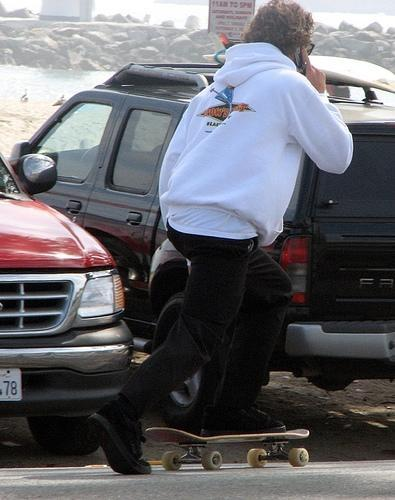car: (14, 54, 395, 390), (3, 157, 128, 454)
